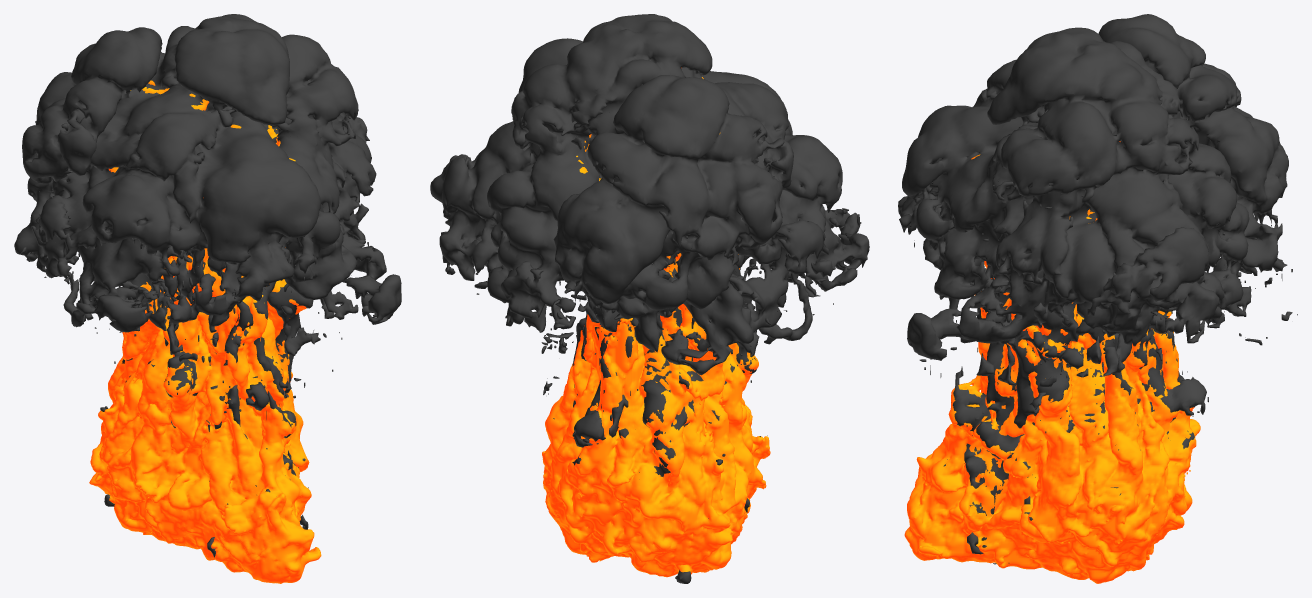
Rendered from fire.glb.
3 renders of one model, left to right at view 1: azimuth 30°, elevation 25°; view 2: azimuth 150°, elevation 25°; view 3: azimuth 270°, elevation 25°, orthographic. The views are drawn at different scales.
Parts seen in each view (by area): view 1: Smoke, Fire; view 2: Smoke, Fire; view 3: Smoke, Fire.
Part boxes in pixels (x1,y1,x2,y2): Smoke: [14, 14, 401, 557]; Fire: [89, 80, 321, 583]; Smoke: [430, 14, 869, 583]; Fire: [542, 67, 770, 577]; Smoke: [898, 14, 1297, 564]; Fire: [904, 141, 1200, 583].
Bounding box in the file's own units: 3.31 × 4.68 × 3.24.
